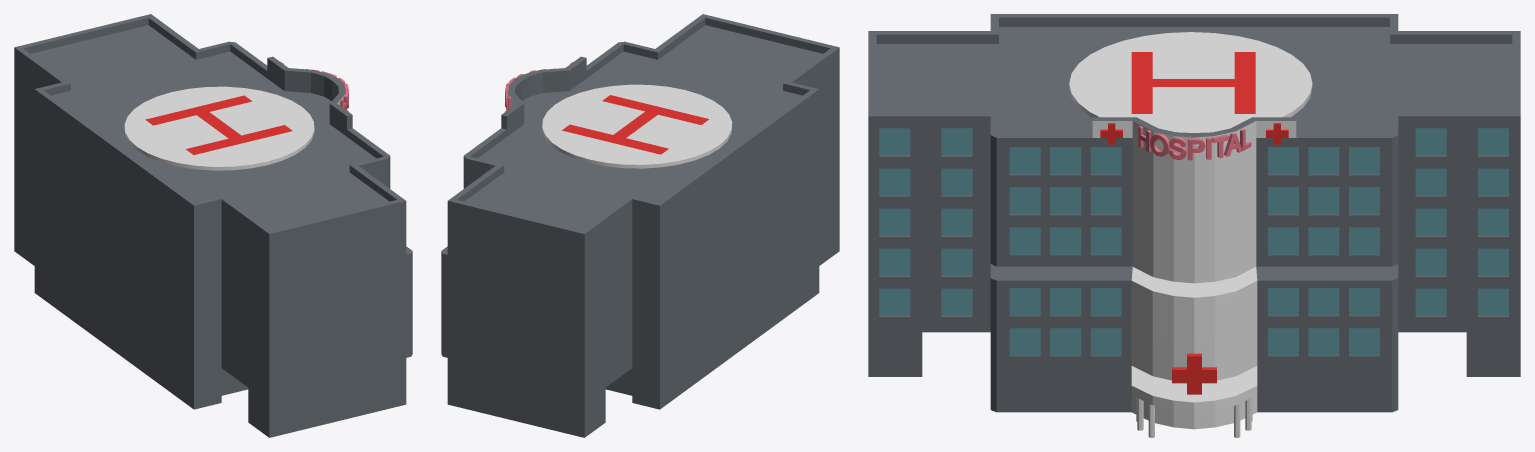
The model's file is Hospital.fbx.
The picture shows the model from 3 angles, left to right: view 1: azimuth 30°, elevation 25°; view 2: azimuth 150°, elevation 25°; view 3: azimuth 270°, elevation 25°; orthographic projection. The views are drawn at different scales.
Parts seen in each view (by area): view 1: Hospital; view 2: Hospital; view 3: Hospital.
Boxes of the visible parts, left/top/right/bottom form: Hospital: left=14, top=14, right=412, bottom=437; Hospital: left=441, top=14, right=839, bottom=437; Hospital: left=868, top=14, right=1520, bottom=437.
Bounding box in the file's own units: 1461 × 1082 × 2305.
